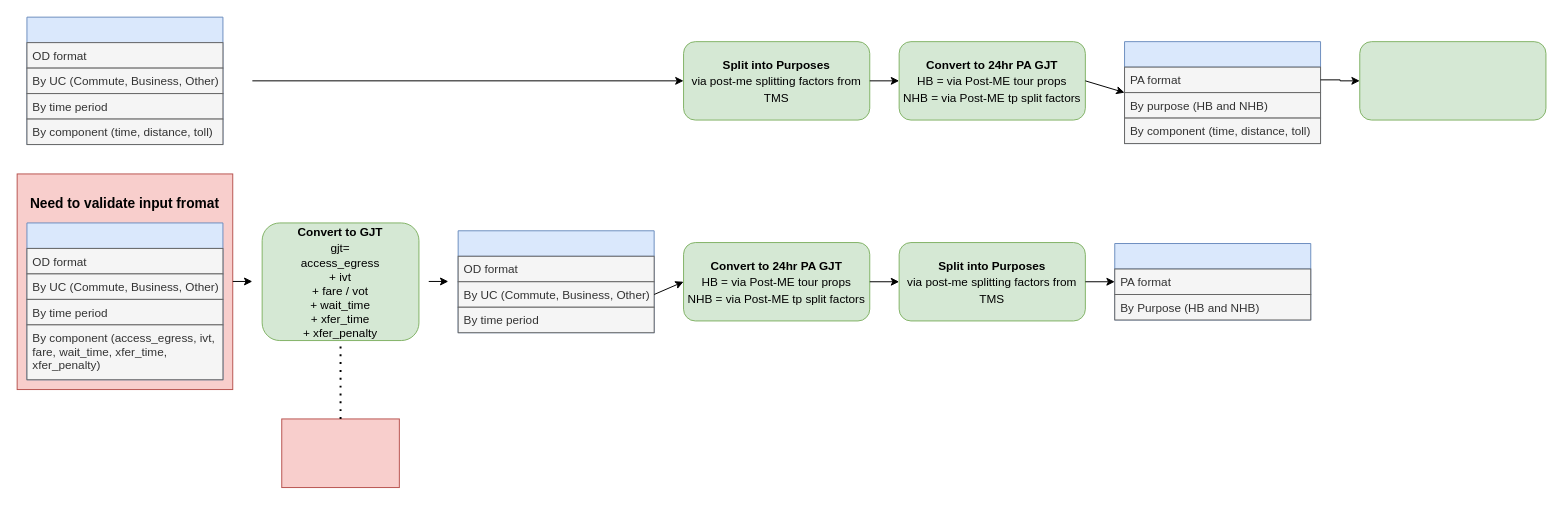
Image size: 1563x505. Some labels were removed from this diagram. The box of each missing label's shape, as (x1, y1, x2, y2) in pixels:
24hr Noham GJT: (1124, 41, 1321, 144)
24hr Norms GJT: (1114, 243, 1311, 320)
Need to do per year of elasticty as vot and voc change: (281, 418, 399, 488)
Noham Costs: (26, 16, 223, 145)
Norms Costs: (26, 222, 223, 380)
Norms GJT: (457, 230, 654, 333)
Translate to noRMS Zoning: (1359, 41, 1546, 120)
